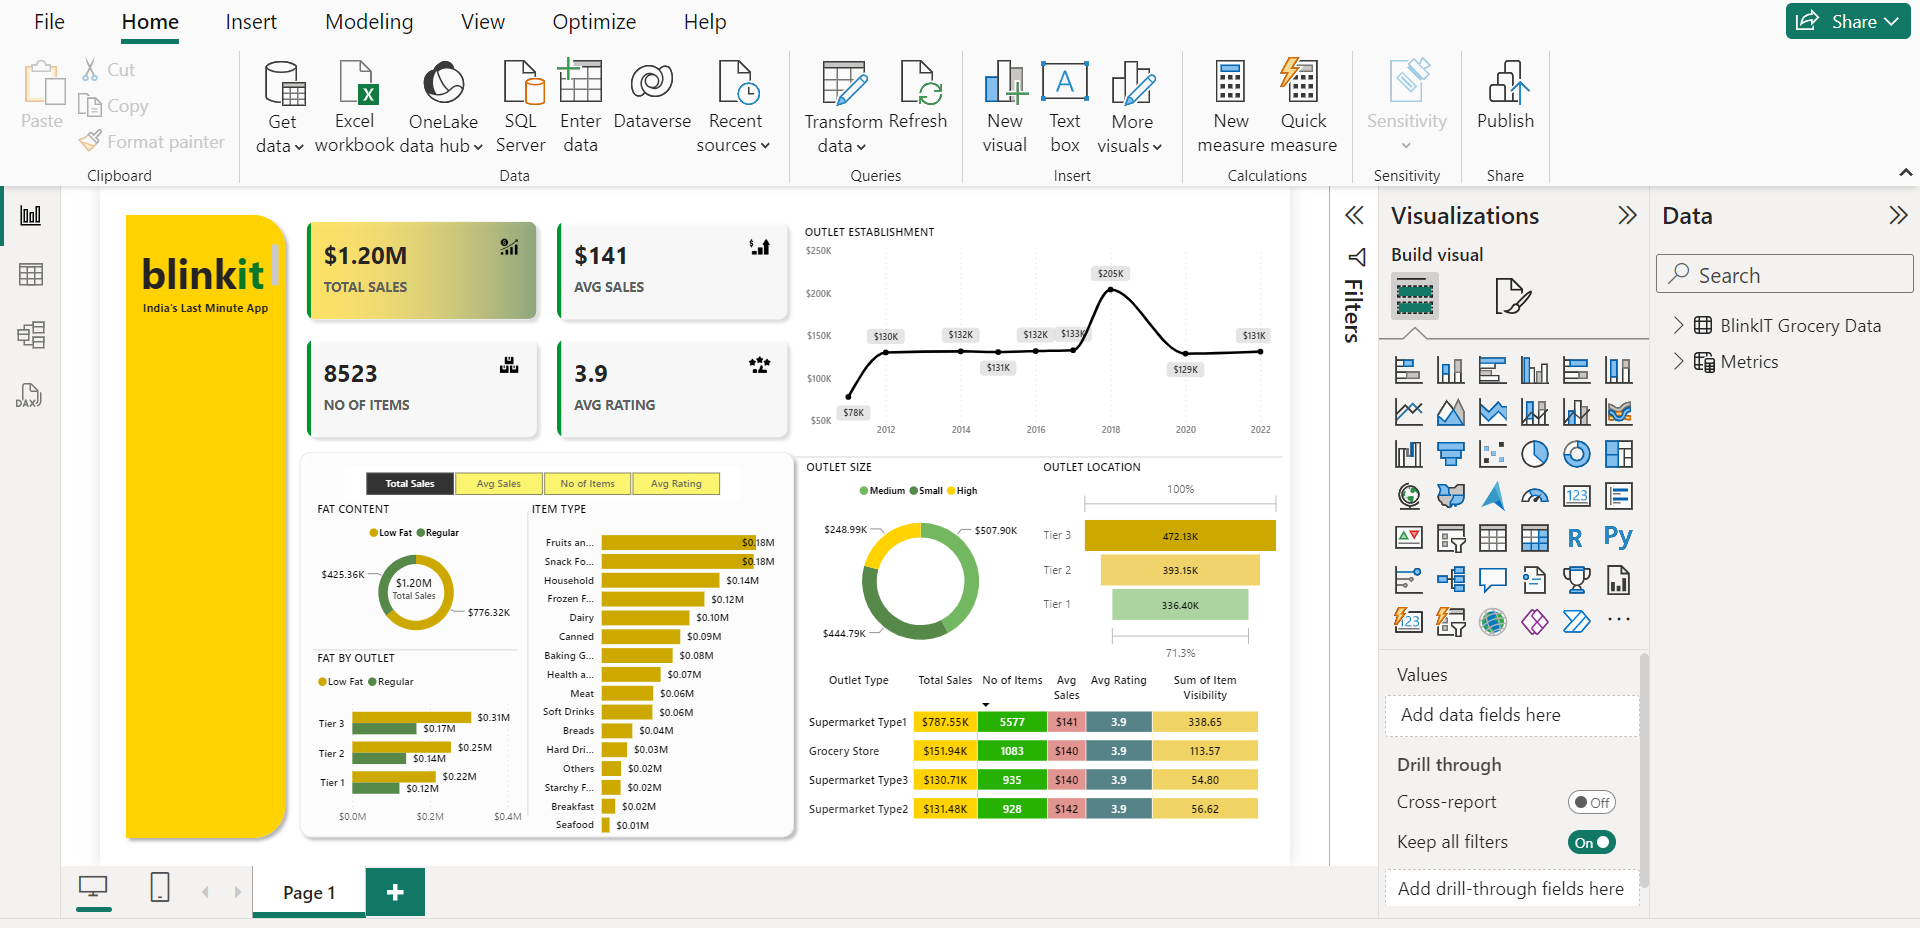

This screenshot's page, from the dashboard's own definition file:
{"tool":"powerbi","page":{"name":"Page 1","canvas":[1400,800],"ordinal":0},"visuals":[{"type":"shape","box":[22,24,206,752],"z":0},{"type":"textbox","box":[275.5,25,205,750],"z":1000},{"type":"textbox","box":[529,25,205,304],"z":2000},{"type":"textbox","box":[33.6,63.6,181.9,65.3],"z":3000},{"type":"textbox","box":[44.2,128.9,160.7,65.3],"z":4000},{"type":"cardVisual","fields":{"Data":["BlinkIT Grocery Data.Total Sales","BlinkIT Grocery Data.Avg Sales","BlinkIT Grocery Data.No of Items","BlinkIT Grocery Data.Avg Rating"]},"box":[226,24,600,288],"z":5000},{"type":"shape","box":[226,303.8,591.6,471.5],"z":6000},{"type":"donutChart","title":"FAT CONTENT","fields":{"Y":["BlinkIT Grocery Data.Total Sales"],"Category":["BlinkIT Grocery Data.Item Fat Content"]},"box":[250,370,242,170],"z":7000},{"type":"slicer","fields":{"Values":["Metrics.Metrics"]},"box":[288,330,466,40],"z":8000},{"type":"cardVisual","fields":{"Data":["BlinkIT Grocery Data.Total Sales"]},"box":[320,440,100,58],"z":9000},{"type":"clusteredBarChart","title":"FAT BY OUTLET","fields":{"Y":["BlinkIT Grocery Data.Total Sales"],"Category":["BlinkIT Grocery Data.Outlet Location Type"],"Series":["BlinkIT Grocery Data.Item Fat Content"]},"box":[250.8,545.7,252.5,213.7],"z":10000},{"type":"shape","box":[250,528,240,36],"z":11000},{"type":"shape","box":[492,384,22,358],"z":12000},{"type":"barChart","title":"ITEM TYPE","fields":{"Y":["BlinkIT Grocery Data.Total Sales"],"Category":["BlinkIT Grocery Data.Item Type"]},"box":[504,370,296,404],"z":13000},{"type":"lineChart","title":"OUTLET ESTABLISHMENT","fields":{"Y":["BlinkIT Grocery Data.Total Sales"],"Category":["BlinkIT Grocery Data.Outlet Establishment Year"]},"box":[825.5,43.6,558.2,260],"z":14000},{"type":"shape","box":[818.2,310.9,574.5,16.4],"z":15000},{"type":"donutChart","title":"OUTLET SIZE","fields":{"Y":["BlinkIT Grocery Data.Total Sales"],"Category":["BlinkIT Grocery Data.Outlet Size"]},"box":[826,320.8,278.7,242.6],"z":16000},{"type":"funnel","title":"OUTLET LOCATION","fields":{"Y":["Sum(BlinkIT Grocery Data.Sales)"],"Category":["BlinkIT Grocery Data.Outlet Location Type"]},"box":[1104.6,320.8,288.7,242.6],"z":17000},{"type":"pivotTable","fields":{"Rows":["BlinkIT Grocery Data.Outlet Type"],"Values":["BlinkIT Grocery Data.Total Sales","BlinkIT Grocery Data.No of Items","BlinkIT Grocery Data.Avg Sales","BlinkIT Grocery Data.Avg Rating","Sum(BlinkIT Grocery Data.Item Visibility)"]},"box":[824,563.3,577.4,212.5],"z":18000},{"type":"slicer","fields":{"Values":["BlinkIT Grocery Data.Outlet Location Type"]},"box":[40.6,284.3,174.8,98.9],"z":19000},{"type":"slicer","fields":{"Values":["BlinkIT Grocery Data.Outlet Size"]},"box":[38.9,406.2,174.8,98.9],"z":20000},{"type":"slicer","fields":{"Values":["BlinkIT Grocery Data.Item Type"]},"box":[37.1,528,174.8,97.1],"z":21000},{"type":"textbox","box":[40.6,226,174.8,33.6],"z":22000},{"type":"textbox","box":[33.6,653.4,148.3,81.2],"z":23000}]}

Visuals, with their boxes on the page's 1400x800 design canvas (x1, y1, x2, y2). These are canvas units, not pixel positions in the 1920x928 screenshot, which may show the page scaled, cropped or inside an application window:
shape: [22,24,228,776]
textbox: [276,25,480,775]
textbox: [529,25,734,329]
textbox: [34,64,216,129]
textbox: [44,129,205,194]
cardVisual - BlinkIT Grocery Data.Total Sales x BlinkIT Grocery Data.Avg Sales: [226,24,826,312]
shape: [226,304,818,775]
"FAT CONTENT" donutChart: [250,370,492,540]
slicer - Metrics.Metrics: [288,330,754,370]
cardVisual - BlinkIT Grocery Data.Total Sales: [320,440,420,498]
"FAT BY OUTLET" clusteredBarChart: [251,546,503,759]
shape: [250,528,490,564]
shape: [492,384,514,742]
"ITEM TYPE" barChart: [504,370,800,774]
"OUTLET ESTABLISHMENT" lineChart: [826,44,1384,304]
shape: [818,311,1393,327]
"OUTLET SIZE" donutChart: [826,321,1105,563]
"OUTLET LOCATION" funnel: [1105,321,1393,563]
pivotTable - BlinkIT Grocery Data.Outlet Type x BlinkIT Grocery Data.Total Sales: [824,563,1401,776]
slicer - BlinkIT Grocery Data.Outlet Location Type: [41,284,215,383]
slicer - BlinkIT Grocery Data.Outlet Size: [39,406,214,505]
slicer - BlinkIT Grocery Data.Item Type: [37,528,212,625]
textbox: [41,226,215,260]
textbox: [34,653,182,735]
